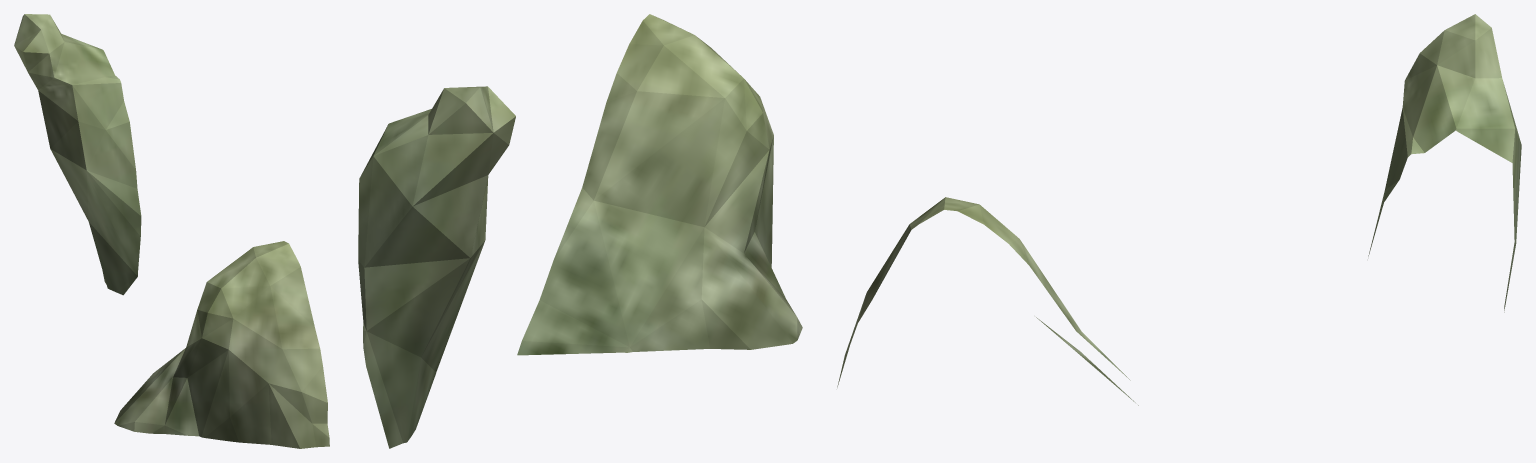
The picture shows the model from 3 angles, left to right: view 1: azimuth 30°, elevation 25°; view 2: azimuth 150°, elevation 25°; view 3: azimuth 270°, elevation 25°; orthographic projection. The views are drawn at different scales.
Size of the model in its own units: 0.5049 by 0.9765 by 1.58.
Materials: 1 (1 with a texture image).
